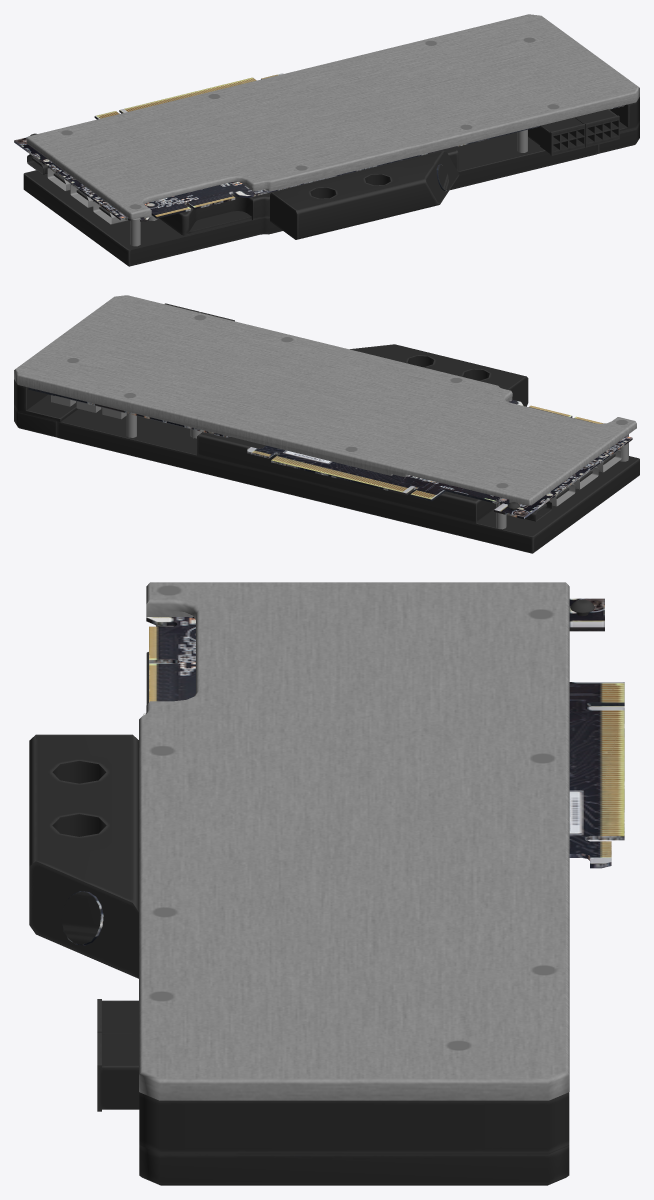
Rendered from GPU.glb.
3 renders of one model, top to bottom at view 1: azimuth 30°, elevation 25°; view 2: azimuth 150°, elevation 25°; view 3: azimuth 270°, elevation 25°, orthographic. The views are drawn at different scales.
Parts seen in each view (by area): view 1: GPU; view 2: GPU; view 3: GPU.
Boxes of the visible parts, <box> form: GPU: <box>14,14,639,266</box>; GPU: <box>14,295,639,553</box>; GPU: <box>29,582,624,1185</box>.
Bounding box in the file's own units: 0.275 × 0.0273 × 0.1376.
1 material, 1 textured.
